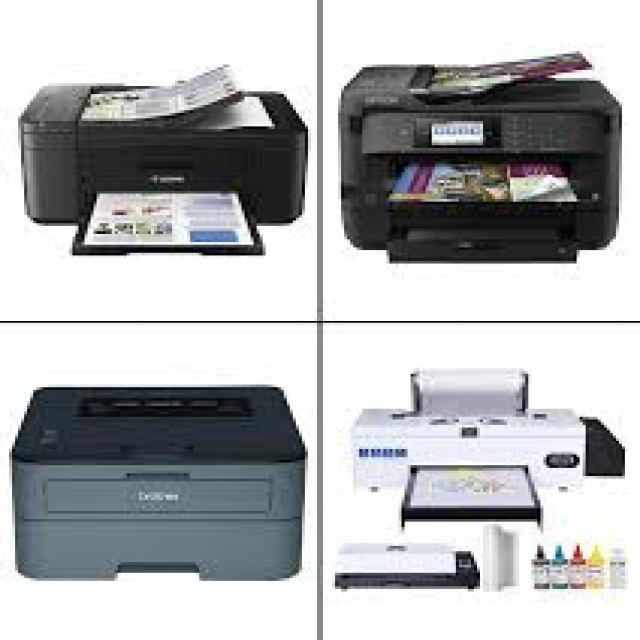printer: (7, 354, 312, 613), (334, 363, 627, 617), (336, 41, 634, 282), (13, 61, 315, 272)
